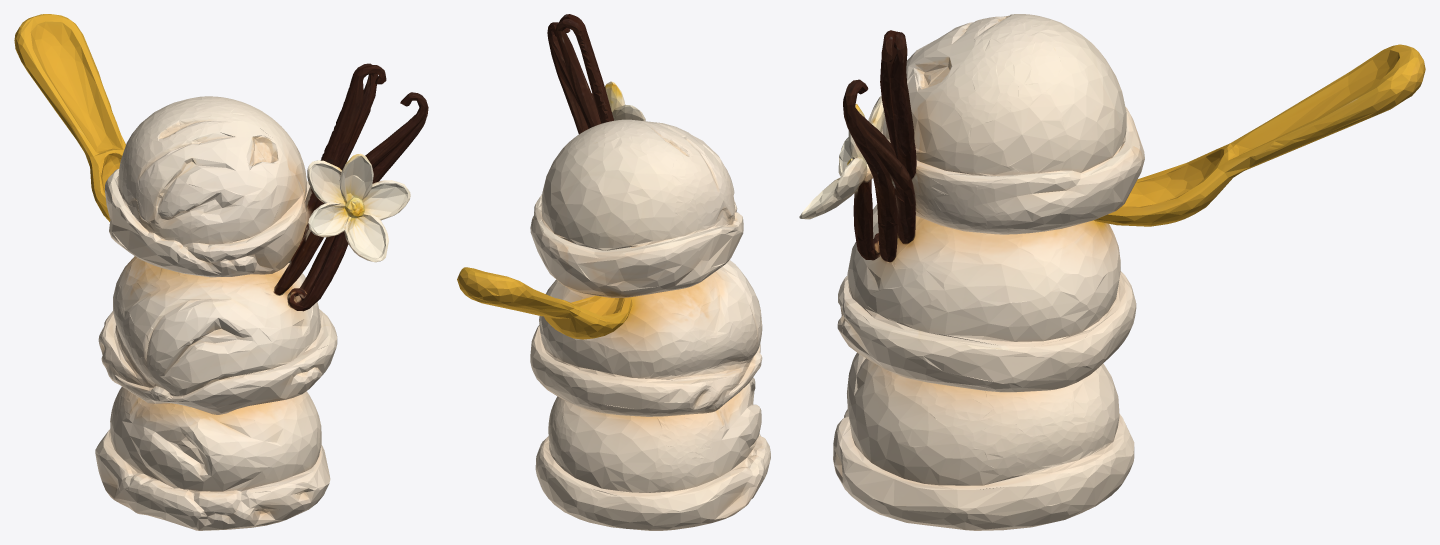
Rendered from Web_IceCream_Vanilla.obj.
3 renders of one model, left to right at view 1: azimuth 30°, elevation 25°; view 2: azimuth 150°, elevation 25°; view 3: azimuth 270°, elevation 25°, orthographic. The views are drawn at different scales.
Visible parts, largest first — view 1: Web_IceCream_Vanilla; view 2: Web_IceCream_Vanilla; view 3: Web_IceCream_Vanilla.
Boxes of the visible parts, x1,y1,x2,y2 form: Web_IceCream_Vanilla: (14, 14, 428, 530); Web_IceCream_Vanilla: (457, 14, 770, 530); Web_IceCream_Vanilla: (799, 14, 1425, 530).
Size of the model in its own units: 0.605 by 0.9382 by 1.02.
1 material, 1 textured.
